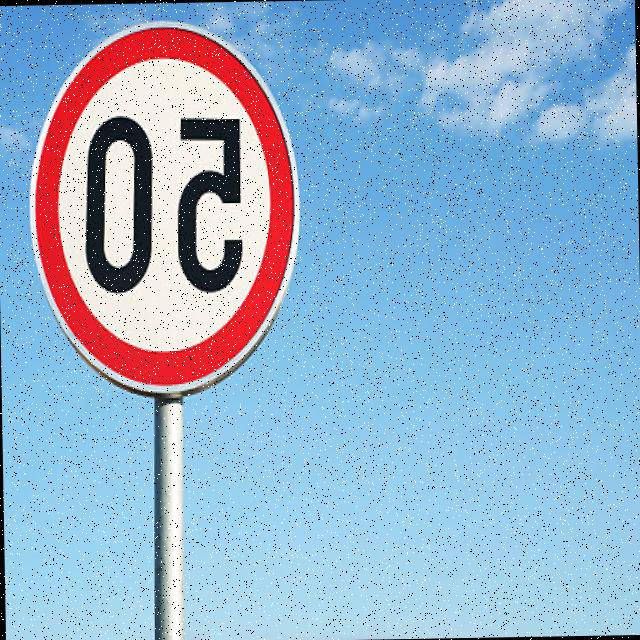speed_limit_50: (18, 1, 308, 410)
